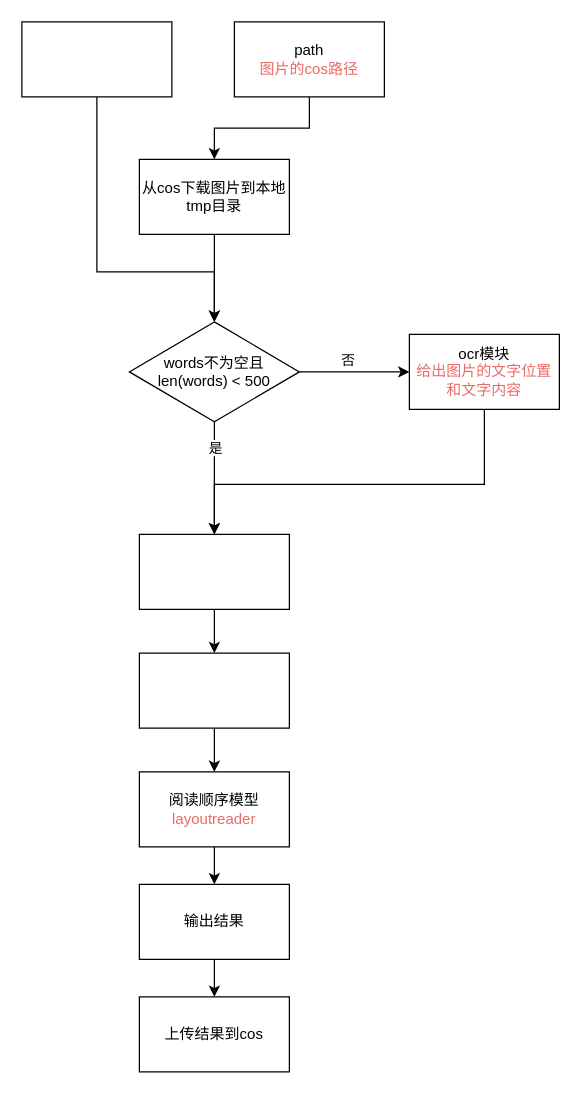
Image size: 581x1094. Some labels were removed from this diagram. Each missing label, with the centre of its shape:
"words 外部OCR结果，由doc-split服务传入" goes at (x=96, y=59).
"文档布局模型 yolo11" goes at (x=213, y=571).
"表格识别模型 yolo11" goes at (x=213, y=690).
